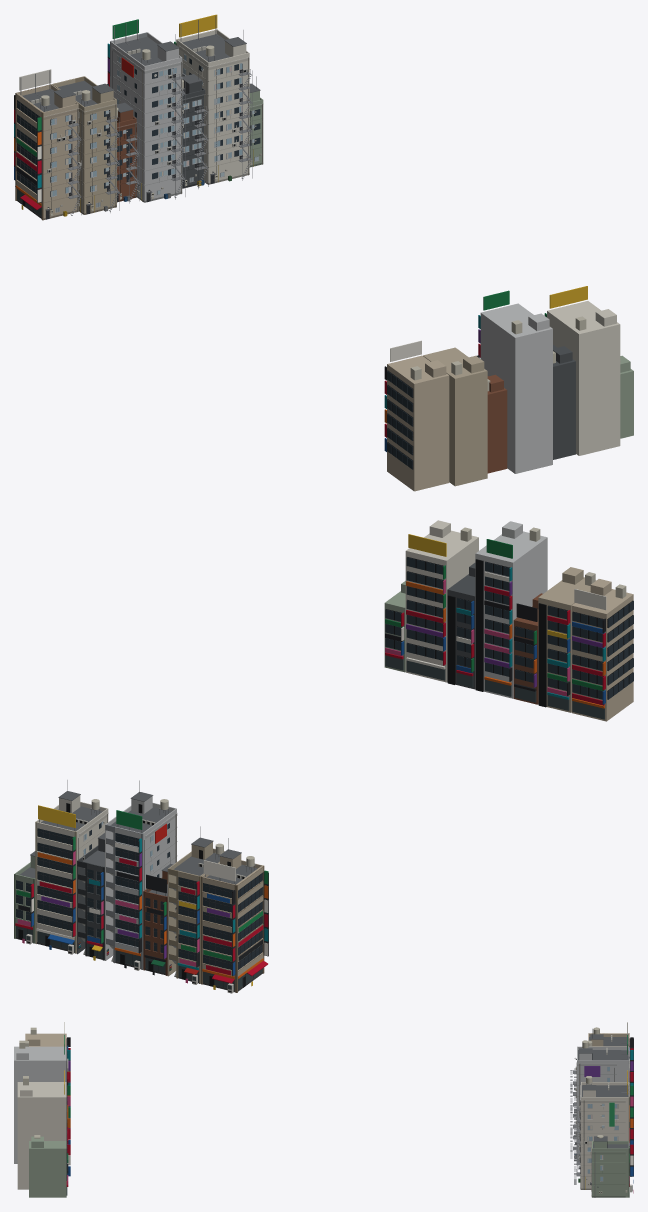
Rendered from zakkyo.glb.
The picture shows the model from 3 angles, top to bottom: view 1: azimuth 30°, elevation 25°; view 2: azimuth 150°, elevation 25°; view 3: azimuth 270°, elevation 25°; orthographic projection. The views are drawn at different scales.
Parts seen in each view (by area): view 1: zakkyo_c_body, zakkyo_c_lo_mesh, zakkyo_g_lo_mesh, zakkyo_e_body, zakkyo_g_body, zakkyo_e_lo_mesh, zakkyo_a_body, zakkyo_a_lo_mesh, zakkyo_d_body, zakkyo_d_lo_mesh, zakkyo_b_body, zakkyo_b_lo_mesh (+3 smaller); view 2: zakkyo_c_lo_mesh, zakkyo_g_lo_mesh, zakkyo_e_lo_mesh, zakkyo_c_body, zakkyo_g_body, zakkyo_e_body, zakkyo_a_lo_mesh, zakkyo_a_body, zakkyo_d_lo_mesh, zakkyo_d_body, zakkyo_b_lo_mesh, zakkyo_g_signs (+6 smaller); view 3: zakkyo_e_body, zakkyo_e_lo_mesh, zakkyo_c_body, zakkyo_c_lo_mesh, zakkyo_f_lo_mesh, zakkyo_f_body, zakkyo_g_lo_mesh, zakkyo_g_body, zakkyo_e_signs, zakkyo_c_signs.
Part boxes in pixels (x1,y1,x2,y2): zakkyo_c_body: (107,19,185,202); zakkyo_c_lo_mesh: (478,290,552,473); zakkyo_g_lo_mesh: (384,340,449,491); zakkyo_e_body: (174,14,252,184); zakkyo_g_body: (14,69,81,220); zakkyo_e_lo_mesh: (544,286,620,455); zakkyo_a_body: (52,76,119,214); zakkyo_a_lo_mesh: (423,347,487,486); zakkyo_d_body: (182,67,208,188); zakkyo_d_lo_mesh: (553,345,575,459); zakkyo_b_body: (107,84,139,203); zakkyo_b_lo_mesh: (477,355,507,473); zakkyo_c_lo_mesh: (475,521,547,698); zakkyo_g_lo_mesh: (571,579,633,721); zakkyo_e_lo_mesh: (405,520,478,682); zakkyo_c_body: (105,780,177,970); zakkyo_g_body: (201,838,268,993); zakkyo_e_body: (35,780,108,954); zakkyo_a_lo_mesh: (538,567,595,712); zakkyo_a_body: (167,826,224,984); zakkyo_d_lo_mesh: (447,563,475,689); zakkyo_d_body: (77,833,104,960); zakkyo_b_lo_mesh: (513,593,542,704); zakkyo_g_signs: (202,860,268,989); zakkyo_e_body: (574,1070,633,1189); zakkyo_e_lo_mesh: (17,1070,70,1189); zakkyo_c_body: (570,1035,633,1161); zakkyo_c_lo_mesh: (14,1035,70,1163); zakkyo_f_lo_mesh: (29,1135,70,1197); zakkyo_f_body: (590,1135,633,1197); zakkyo_g_lo_mesh: (25,1022,70,1082); zakkyo_g_body: (588,1022,633,1050); zakkyo_e_signs: (609,1086,633,1144); zakkyo_c_signs: (584,1050,633,1085).
Size of the model in its own units: 53.76 by 35.48 by 165.
